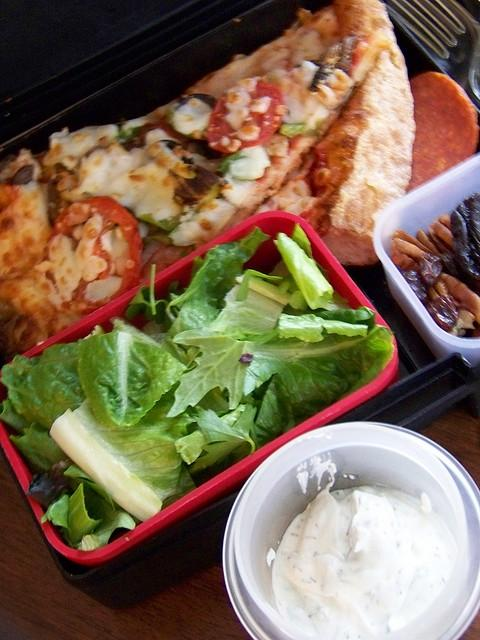lettuce: (49, 382, 200, 522), (229, 314, 396, 438), (166, 226, 270, 339), (77, 330, 189, 430), (166, 320, 272, 418), (0, 342, 87, 431), (274, 222, 352, 310), (72, 498, 136, 551), (193, 403, 257, 456), (10, 419, 70, 471), (68, 482, 105, 545), (281, 304, 376, 326), (278, 274, 310, 312), (198, 388, 229, 417), (142, 322, 164, 335)
tomato: (46, 196, 143, 315), (202, 81, 284, 153), (120, 116, 190, 152)
